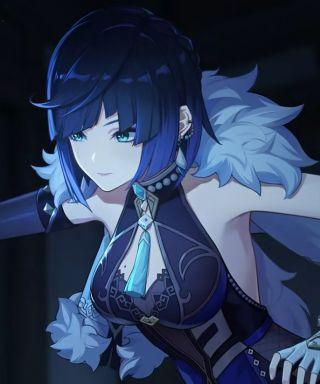夜兰: (1, 5, 320, 383)
